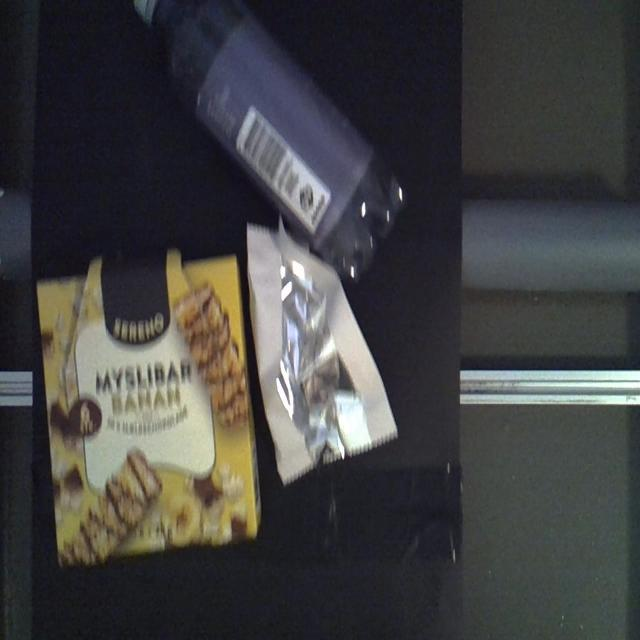bottle-plastic: (131, 0, 408, 285)
carton: (37, 245, 265, 570)
packaging-soft-plastic: (244, 220, 398, 494)
